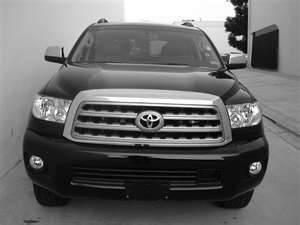car: (22, 21, 271, 213)
